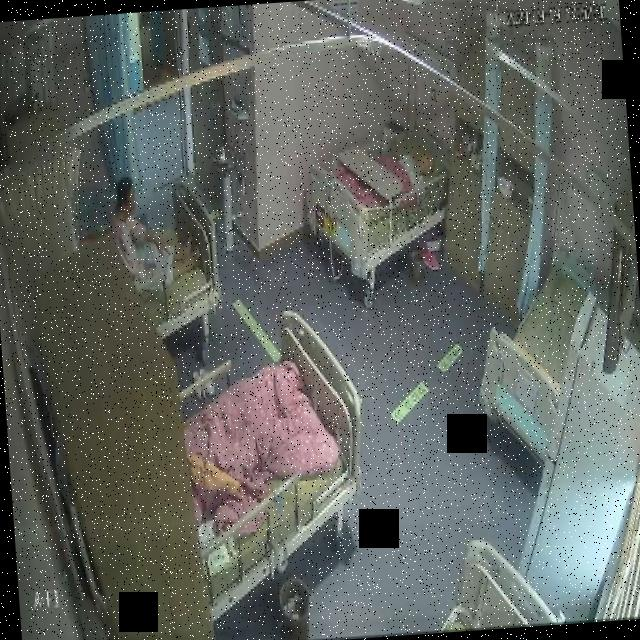bed: (175, 312, 368, 590), (301, 108, 454, 270), (478, 241, 598, 428), (115, 175, 224, 332)
patient: (115, 172, 199, 294), (396, 147, 438, 201)
sit: (113, 174, 201, 296)
